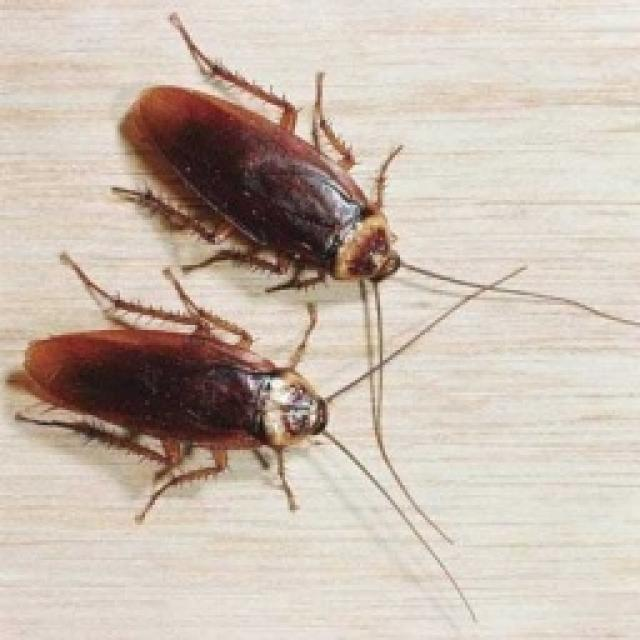cockroach: (89, 20, 473, 352), (0, 267, 408, 558)
